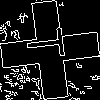T: (25, 25, 74, 61)
